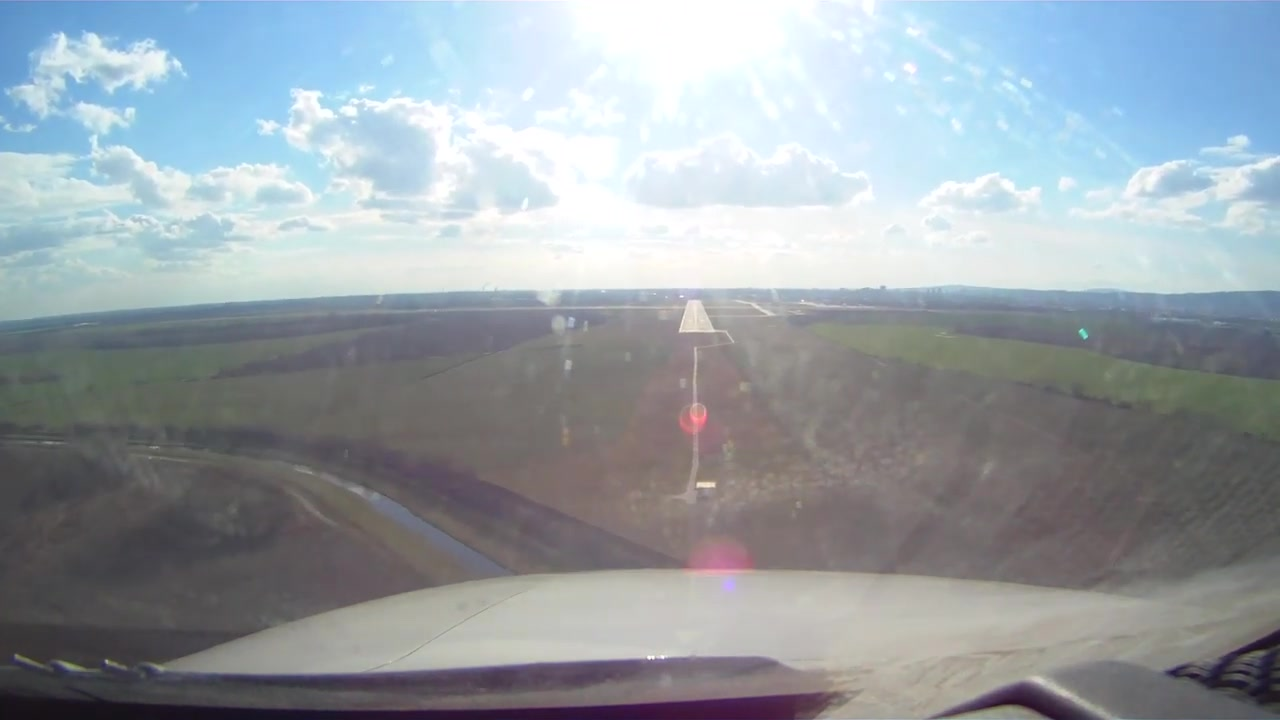runway: (679, 300, 713, 332)
